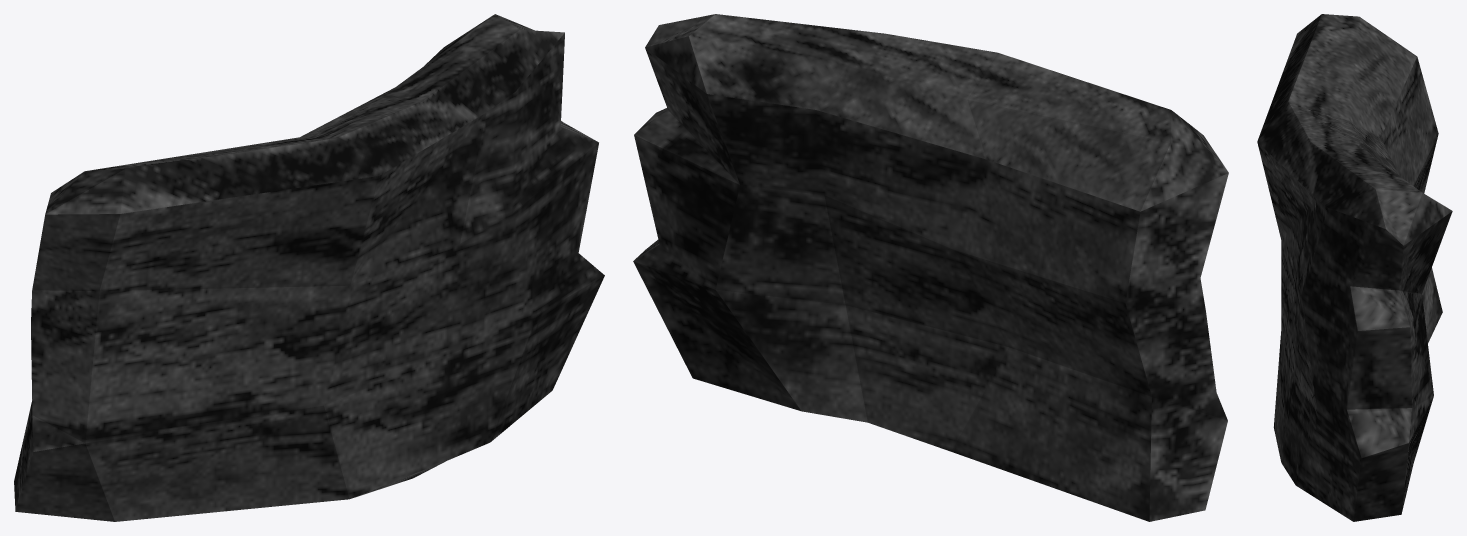
File: Rocky_Wall.obj
3 views of the same model, side by side, from view 1: azimuth 30°, elevation 25°; view 2: azimuth 150°, elevation 25°; view 3: azimuth 270°, elevation 25° (orthographic). The views are drawn at different scales.
Parts seen in each view (by area): view 1: Rocky_Wall_ROCKWALL_LOW_Plane.005; view 2: Rocky_Wall_ROCKWALL_LOW_Plane.005; view 3: Rocky_Wall_ROCKWALL_LOW_Plane.005.
Boxes of the visible parts, x1,y1,x2,y2 form: Rocky_Wall_ROCKWALL_LOW_Plane.005: (14, 14, 604, 521); Rocky_Wall_ROCKWALL_LOW_Plane.005: (633, 14, 1228, 521); Rocky_Wall_ROCKWALL_LOW_Plane.005: (1257, 14, 1452, 521).
Size of the model in its own units: 4.45 by 2.86 by 1.44.
